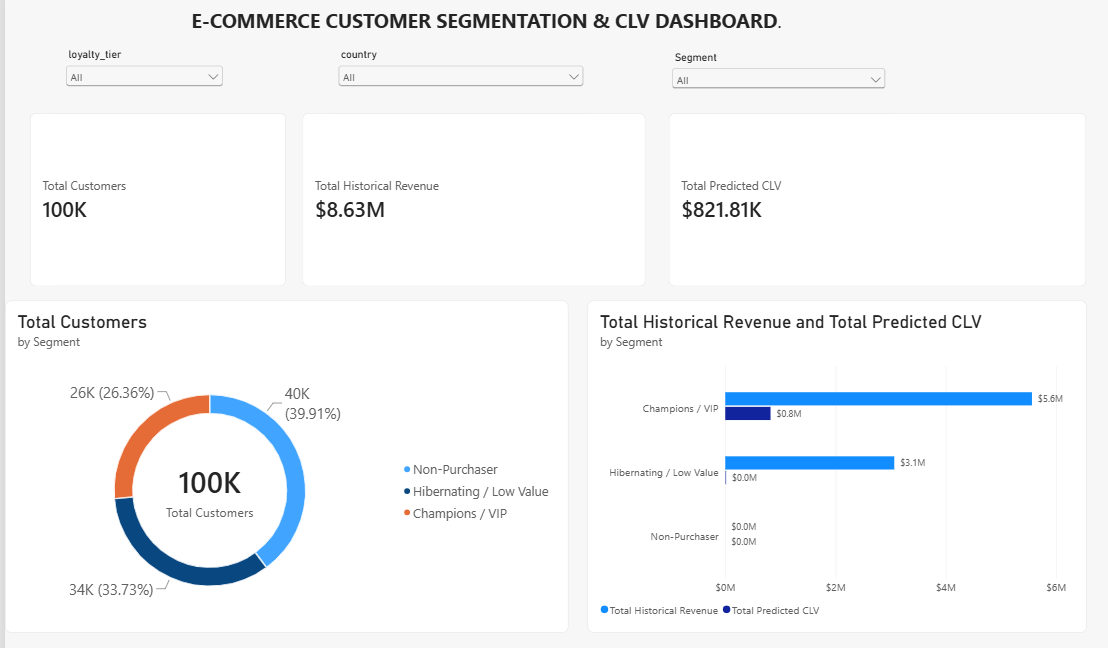

This screenshot's page, from the dashboard's own definition file:
{"tool":"powerbi","page":{"name":"Page 1","canvas":[1920,1080],"ordinal":0},"visuals":[{"type":"cardVisual","fields":{"Data":["_Measures1.Total Customers"]},"box":[34.4,162.9,347.5,235.3],"z":0},{"type":"cardVisual","fields":{"Data":["_Measures1.Total Historical Revenue"]},"box":[403.6,162.9,465.1,235.3],"z":1000},{"type":"cardVisual","fields":{"Data":["_Measures1.Total Predicted CLV"]},"box":[899.4,162.9,566.4,235.3],"z":2000},{"type":"donutChart","fields":{"Category":["final_customer_analytics_master.Segment"],"Y":["_Measures1.Total Customers"]},"box":[0,416.2,763.7,450.6],"z":3000},{"type":"clusteredBarChart","fields":{"Category":["final_customer_analytics_master.Segment"],"Y":["_Measures1.Total Historical Revenue","_Measures1.Total Predicted CLV"]},"box":[789,416.2,676.8,450.6],"z":4000},{"type":"slicer","fields":{"Values":["final_customer_analytics_master.country"]},"box":[487,77.9,342,275.1],"z":5000},{"type":"slicer","fields":{"Values":["final_customer_analytics_master.loyalty_tier"]},"box":[77.8,74.2,222.6,282.3],"z":6000},{"type":"textbox","box":[253.4,18.1,808.9,39.8],"z":7000},{"type":"slicer","fields":{"Values":["final_customer_analytics_master.Segment"]},"box":[900,77.9,298.6,298.6],"z":8000}]}

Visuals, with their boxes on the page's 1920x1080 design canvas (x1, y1, x2, y2). These are canvas units, not pixel positions in the 1108x648 screenshot, which may show the page scaled, cropped or inside an application window:
cardVisual - _Measures1.Total Customers: <region>34, 163, 382, 398</region>
cardVisual - _Measures1.Total Historical Revenue: <region>404, 163, 869, 398</region>
cardVisual - _Measures1.Total Predicted CLV: <region>899, 163, 1466, 398</region>
donutChart - final_customer_analytics_master.Segment x _Measures1.Total Customers: <region>0, 416, 764, 867</region>
clusteredBarChart - final_customer_analytics_master.Segment x _Measures1.Total Historical Revenue: <region>789, 416, 1466, 867</region>
slicer - final_customer_analytics_master.country: <region>487, 78, 829, 353</region>
slicer - final_customer_analytics_master.loyalty_tier: <region>78, 74, 300, 356</region>
textbox: <region>253, 18, 1062, 58</region>
slicer - final_customer_analytics_master.Segment: <region>900, 78, 1199, 376</region>
